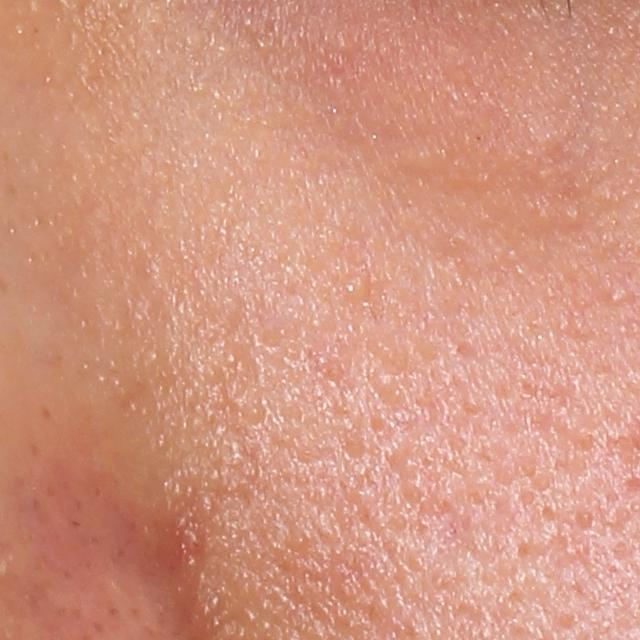comedo: (344, 270, 374, 302), (568, 507, 595, 531), (601, 285, 627, 307), (246, 403, 267, 424)
